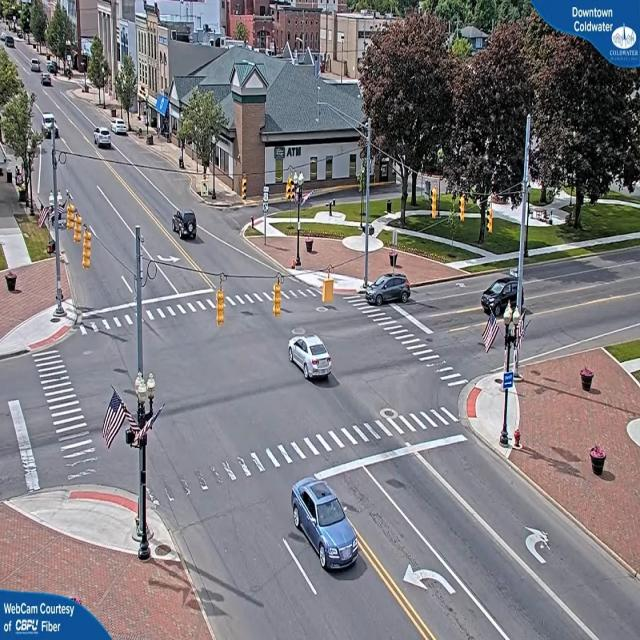car: (290, 480, 358, 574), (287, 334, 334, 379), (476, 276, 524, 311), (369, 273, 412, 304), (174, 210, 200, 242), (94, 129, 113, 149), (42, 115, 56, 137), (112, 119, 129, 137), (29, 59, 40, 72)
